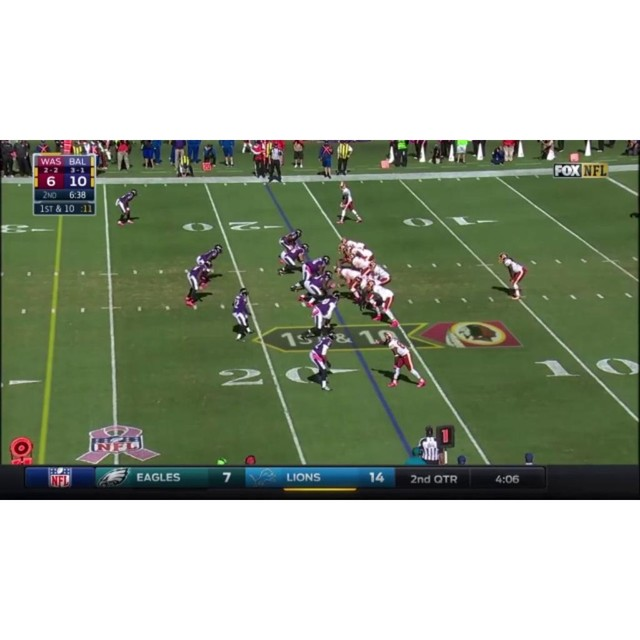american-football-player: (381, 332, 425, 388), (307, 330, 337, 391), (303, 293, 341, 339), (365, 279, 398, 326), (183, 258, 213, 308), (290, 255, 330, 291), (498, 251, 527, 300), (297, 270, 334, 306), (231, 288, 252, 342), (337, 182, 363, 224), (278, 243, 310, 277), (196, 243, 224, 278), (115, 188, 138, 226), (279, 228, 302, 255)
referee: (268, 142, 285, 183)
